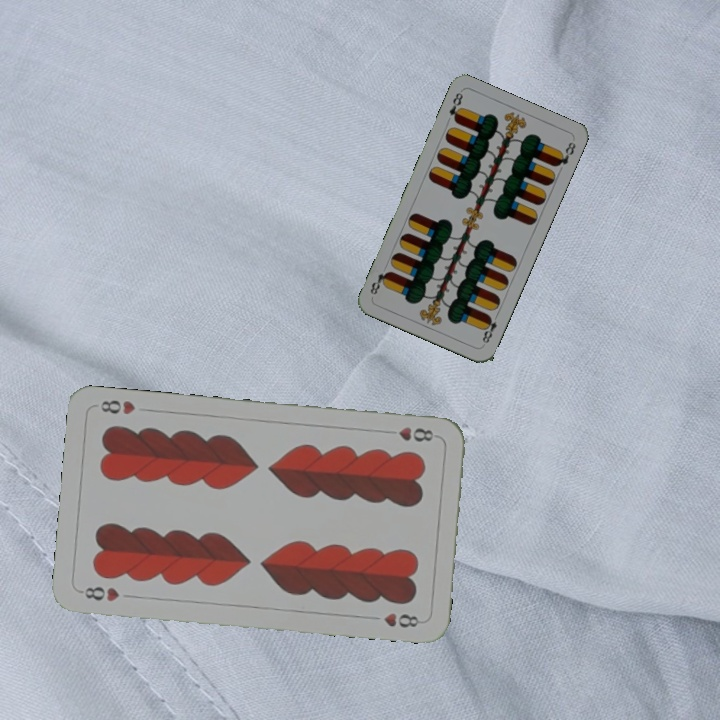E8: (478, 309, 501, 346), (445, 88, 466, 125)
H8: (381, 423, 436, 444), (76, 583, 122, 604)
